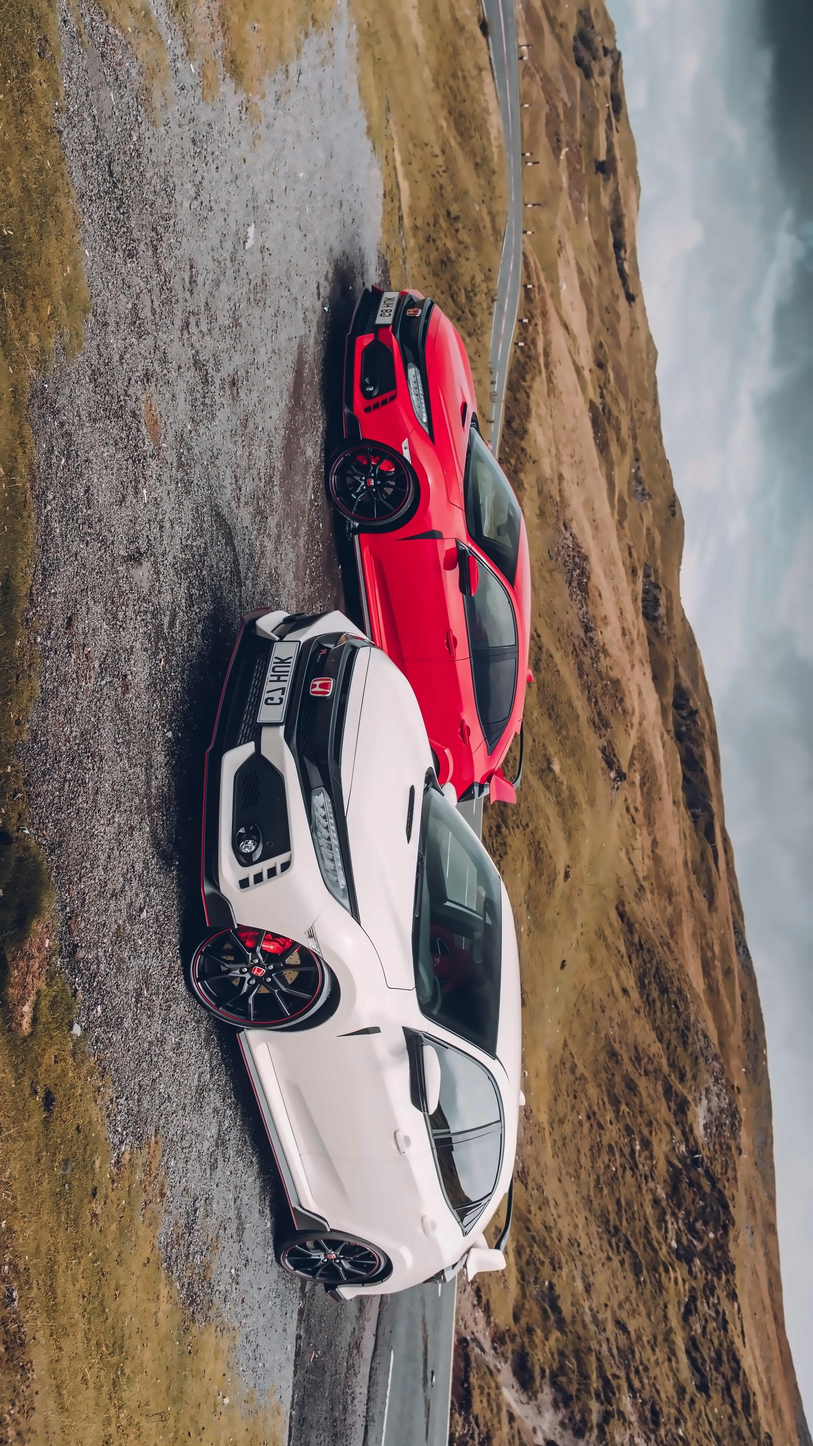Car hood: (344, 639, 440, 990), (425, 305, 485, 510)
Fender - -F-L-: (241, 897, 429, 1045), (355, 426, 477, 545)
Fender - -R-L-: (302, 1229, 466, 1284)
Front bumper: (192, 597, 317, 952), (342, 267, 409, 453)
Headlight - -L-: (304, 779, 357, 922), (400, 346, 443, 454)
Headlight - -R-: (329, 627, 382, 658)
Passenger-s door - -F-L-: (262, 1031, 512, 1150), (362, 538, 522, 659)
Passenger-s door - -R-L-: (289, 1136, 518, 1249), (387, 653, 527, 755)
Rear bumper: (311, 1270, 425, 1313)
Rear light - -L-: (455, 777, 496, 807)
Side bumper - -L-: (232, 1019, 333, 1236), (342, 529, 392, 655)
Side mirror - -L-: (397, 1024, 448, 1120), (447, 545, 487, 600)
Side mirror - -R-: (432, 775, 468, 817)
